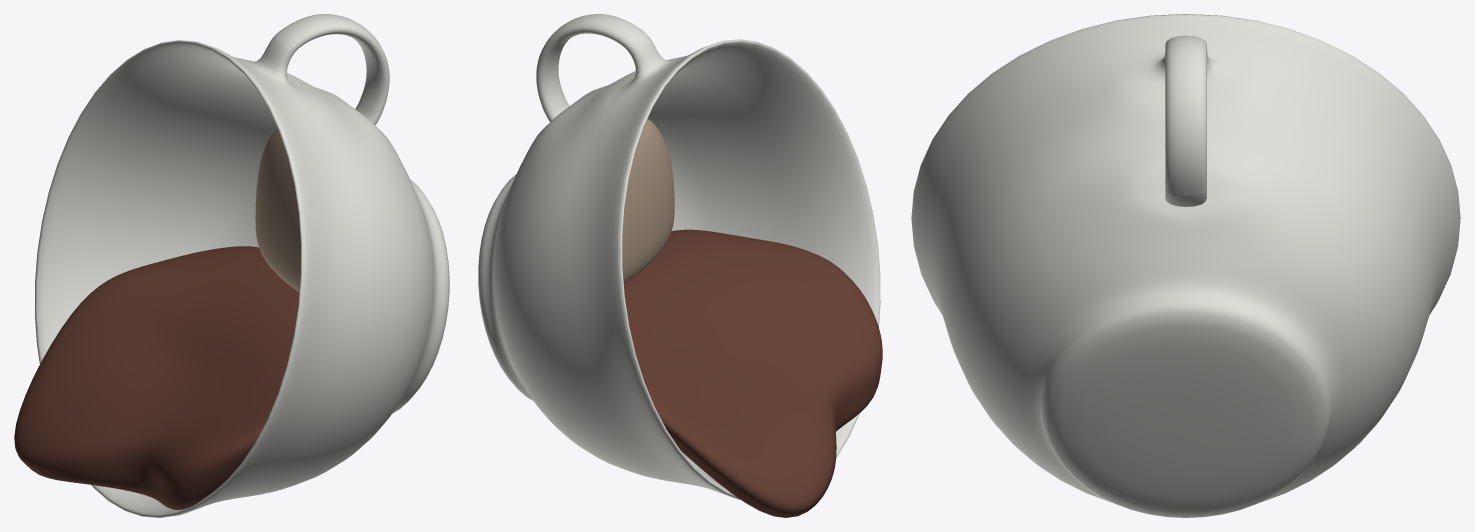
Rendered from chair.fbx.
3 renders of one model, left to right at view 1: azimuth 30°, elevation 25°; view 2: azimuth 150°, elevation 25°; view 3: azimuth 270°, elevation 25°, orthographic. The views are drawn at different scales.
Parts seen in each view (by area): view 1: Cube, Cube.002, Cube.003; view 2: Cube, Cube.002, Cube.003; view 3: Cube.
Boxes of the visible parts, <box> form: Cube: <box>35,14,449,517</box>; Cube.002: <box>14,246,299,509</box>; Cube.003: <box>255,128,300,292</box>; Cube: <box>478,14,880,499</box>; Cube.002: <box>624,229,882,517</box>; Cube.003: <box>622,119,674,283</box>; Cube: <box>911,14,1460,517</box>.
Bounding box in the file's own units: 68.34 × 68.64 × 57.66.
